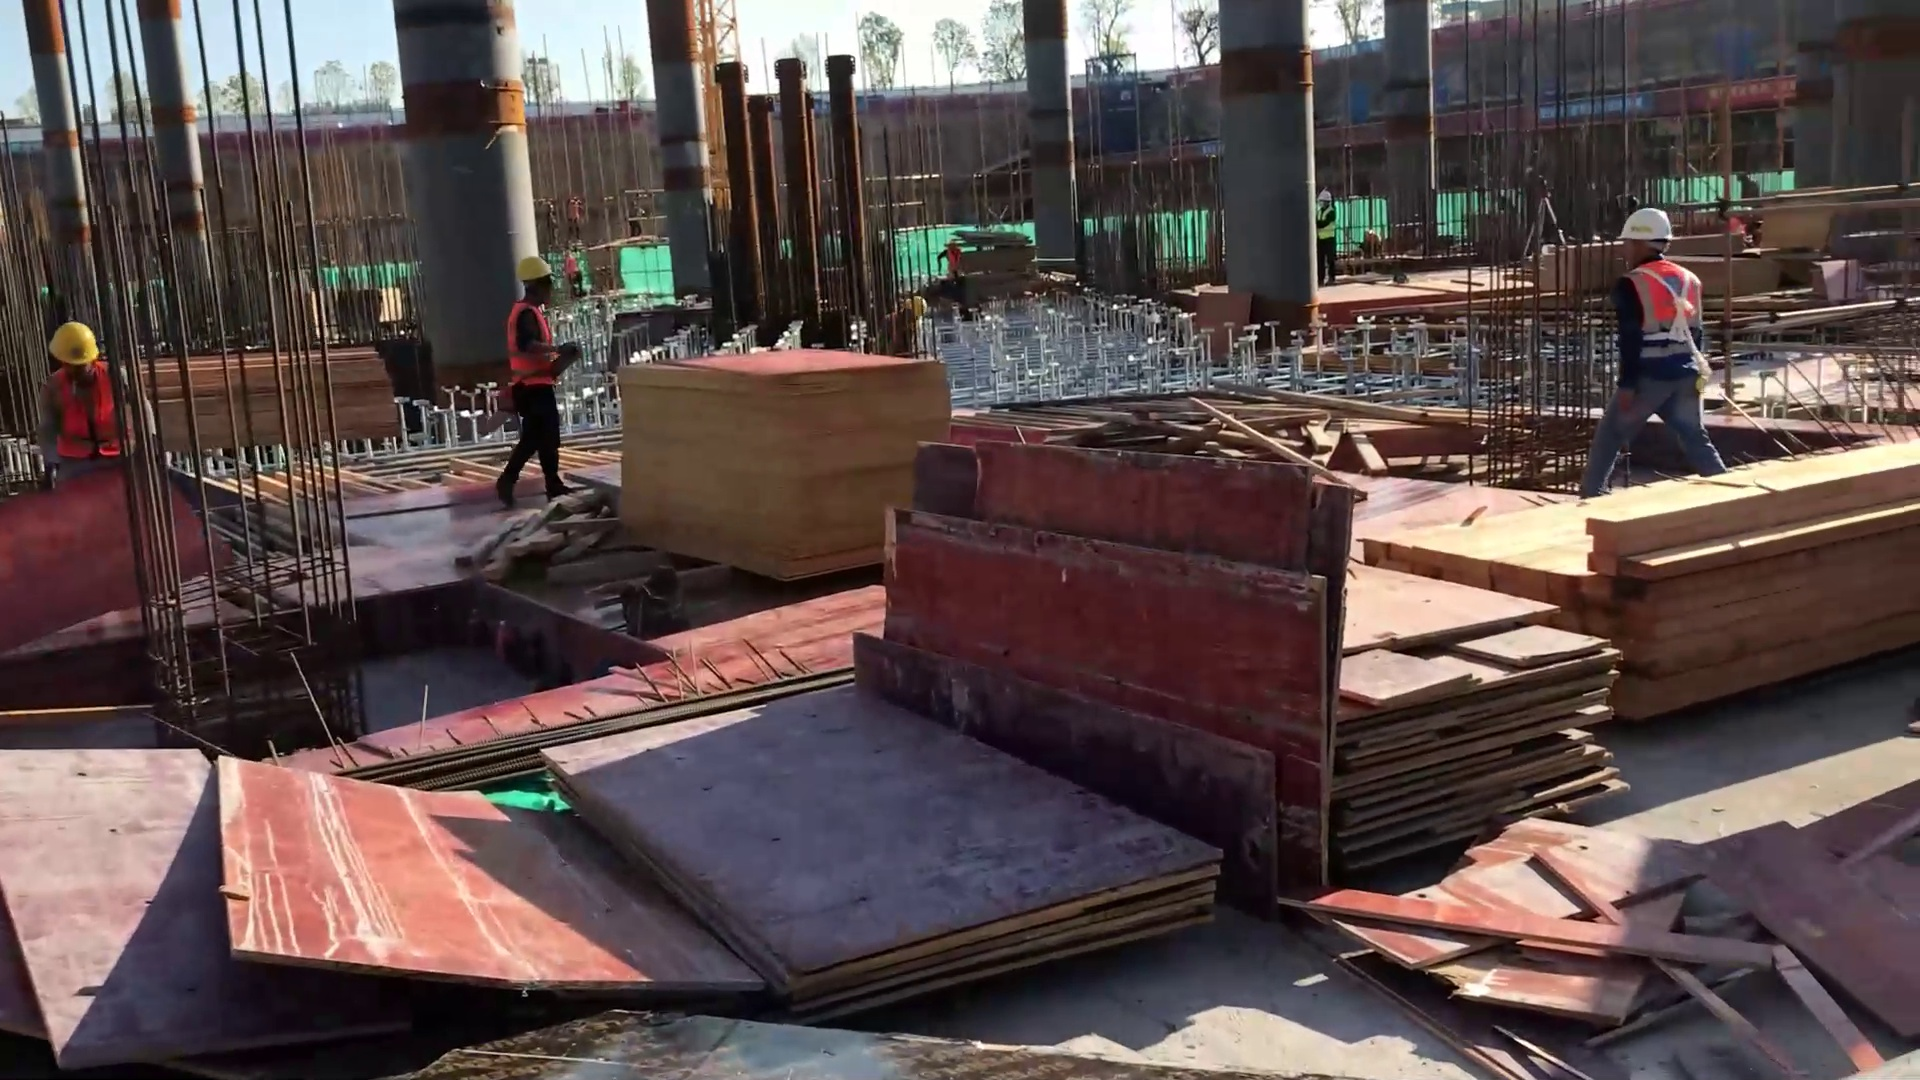board: (540, 677, 1266, 984), (1316, 594, 1595, 825), (607, 344, 900, 562)
helmet: (47, 315, 104, 369), (1611, 204, 1680, 243), (515, 250, 559, 282), (1318, 187, 1333, 203)
person: (1563, 202, 1749, 497), (488, 249, 574, 495), (34, 315, 154, 467), (1318, 182, 1348, 286)
slogan: (1691, 74, 1794, 102), (1538, 96, 1643, 120)
vest: (1620, 258, 1706, 369), (52, 368, 130, 456), (508, 296, 561, 390), (1317, 203, 1337, 239), (945, 248, 960, 270)
wood: (1368, 470, 1920, 691)
